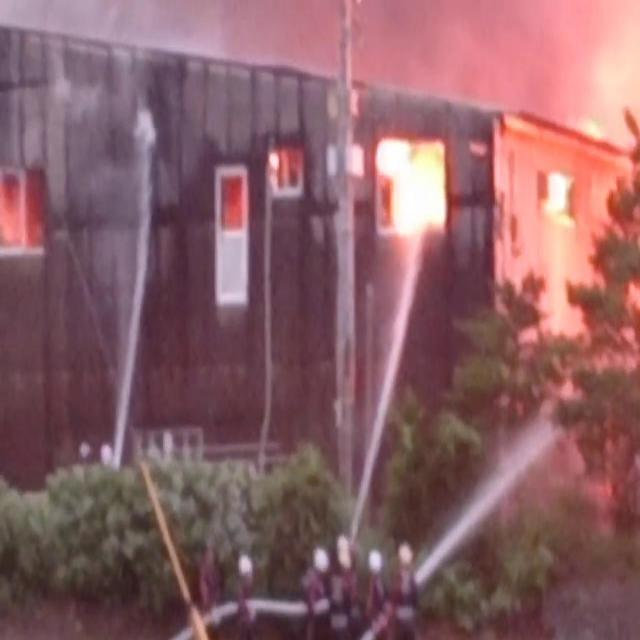Fire: (376, 136, 446, 234)
